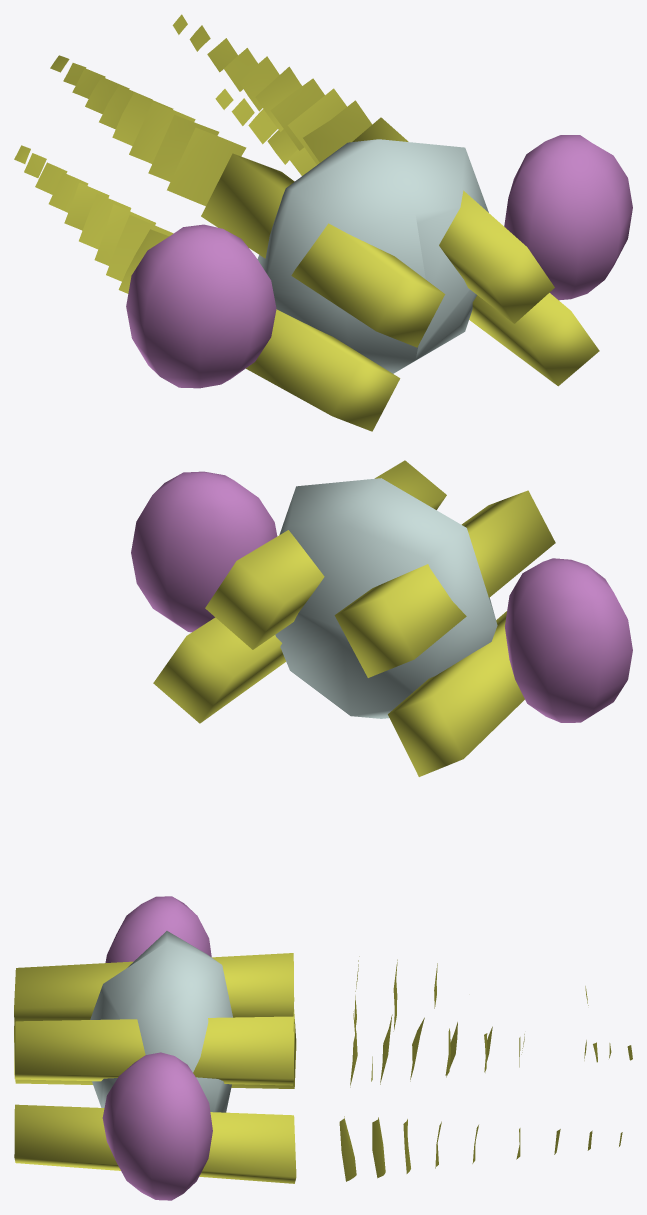
The model's file is ship_2.gltf.
3 renders of one model, top to bottom at view 1: azimuth 30°, elevation 25°; view 2: azimuth 150°, elevation 25°; view 3: azimuth 270°, elevation 25°, orthographic. The views are drawn at different scales.
Parts seen in each view (by area): view 1: gtlf; view 2: gtlf; view 3: gtlf.
Part boxes in pixels (x1,y1,x2,y2): gtlf: [14, 14, 632, 431]; gtlf: [131, 460, 632, 776]; gtlf: [14, 896, 632, 1200].
Size of the model in its own units: 1.68 by 0.7994 by 2.1.
